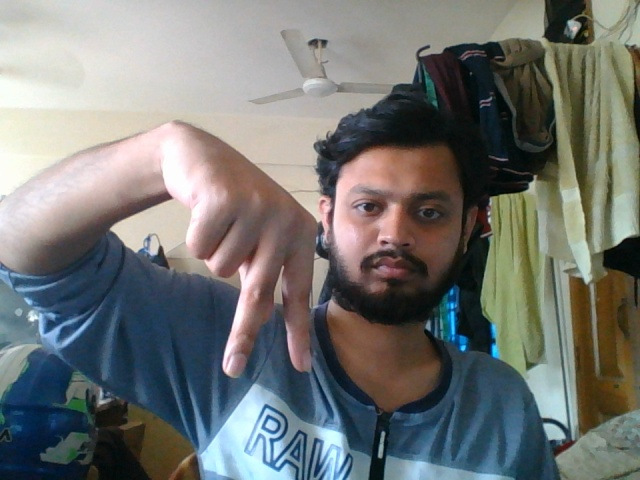pa: (155, 120, 335, 392)
